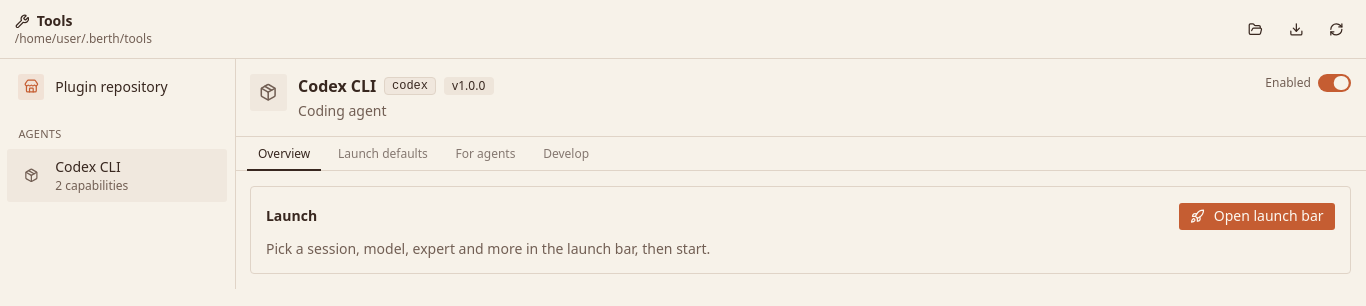
Test: ToolsSettingsPage › disables a plugin and marks it in the list
Click the switch at (1335, 83), box [1318,74,1351,92]
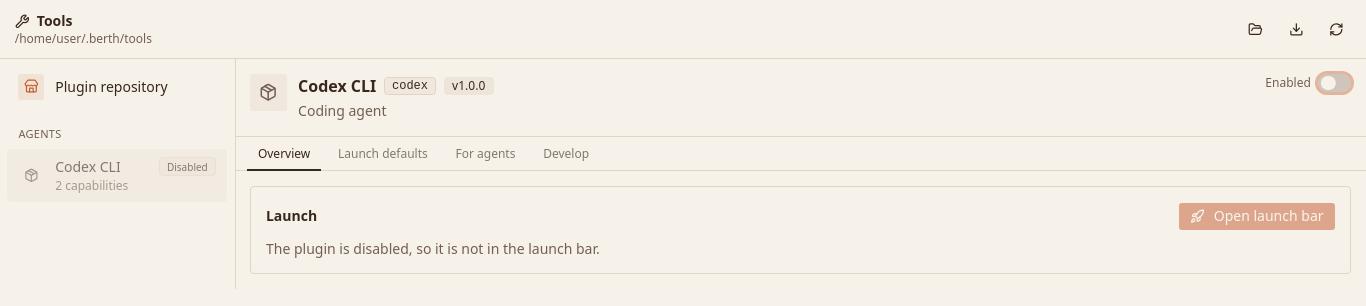
Expected: the icon "Disabled" is shown, [159,157,216,176]
